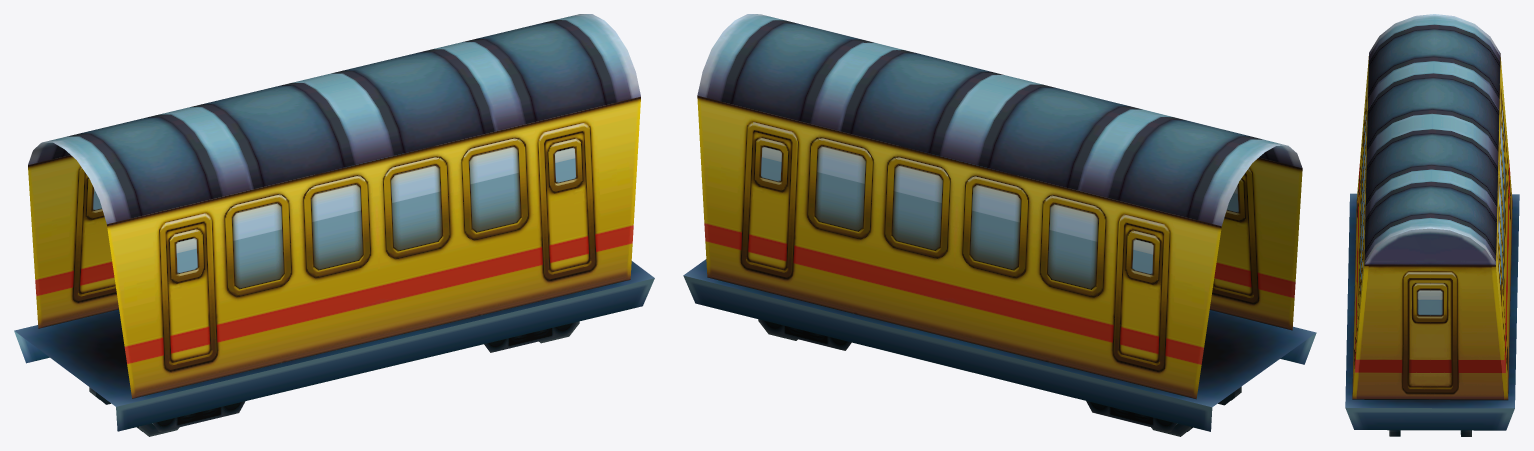
The model's file is train3.glb.
3 views of the same model, side by side, from view 1: azimuth 30°, elevation 25°; view 2: azimuth 150°, elevation 25°; view 3: azimuth 270°, elevation 25° (orthographic). The views are drawn at different scales.
Visible parts, largest first — view 1: Object_17; view 2: Object_17; view 3: Object_17.
Boxes of the visible parts, x1=… form: Object_17: x1=14, y1=14, x2=654, y2=436; Object_17: x1=683, y1=14, x2=1316, y2=436; Object_17: x1=1345, y1=14, x2=1519, y2=436.
Bounding box in the file's own units: 15.7 × 7.9 × 5.38.
1 material, 1 textured.
